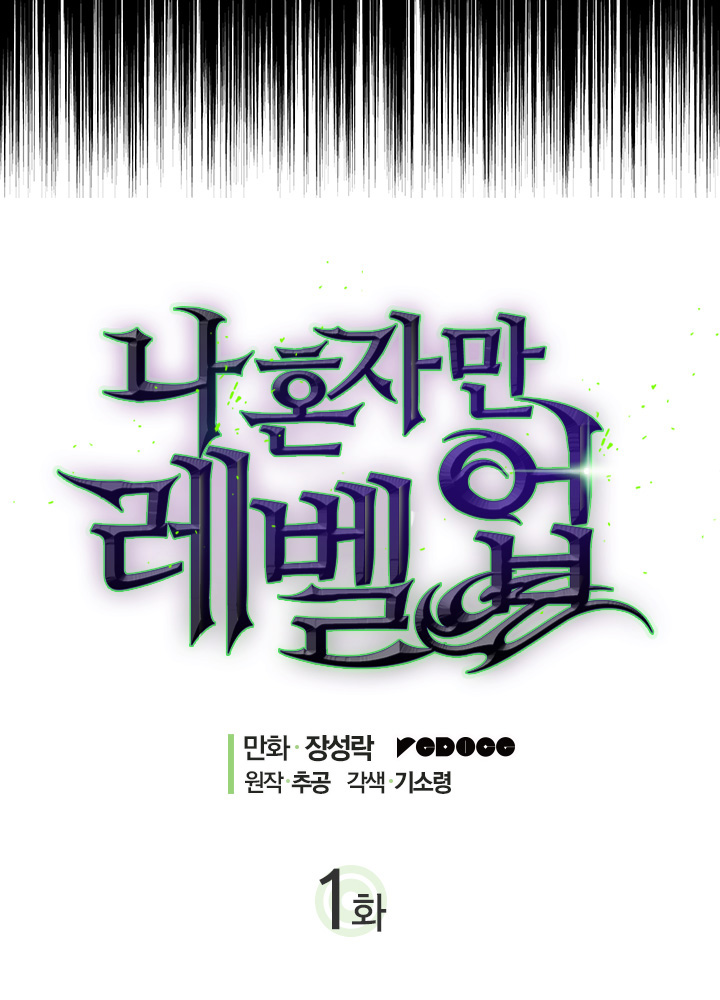text: (217, 719, 526, 820), (304, 854, 414, 950)
